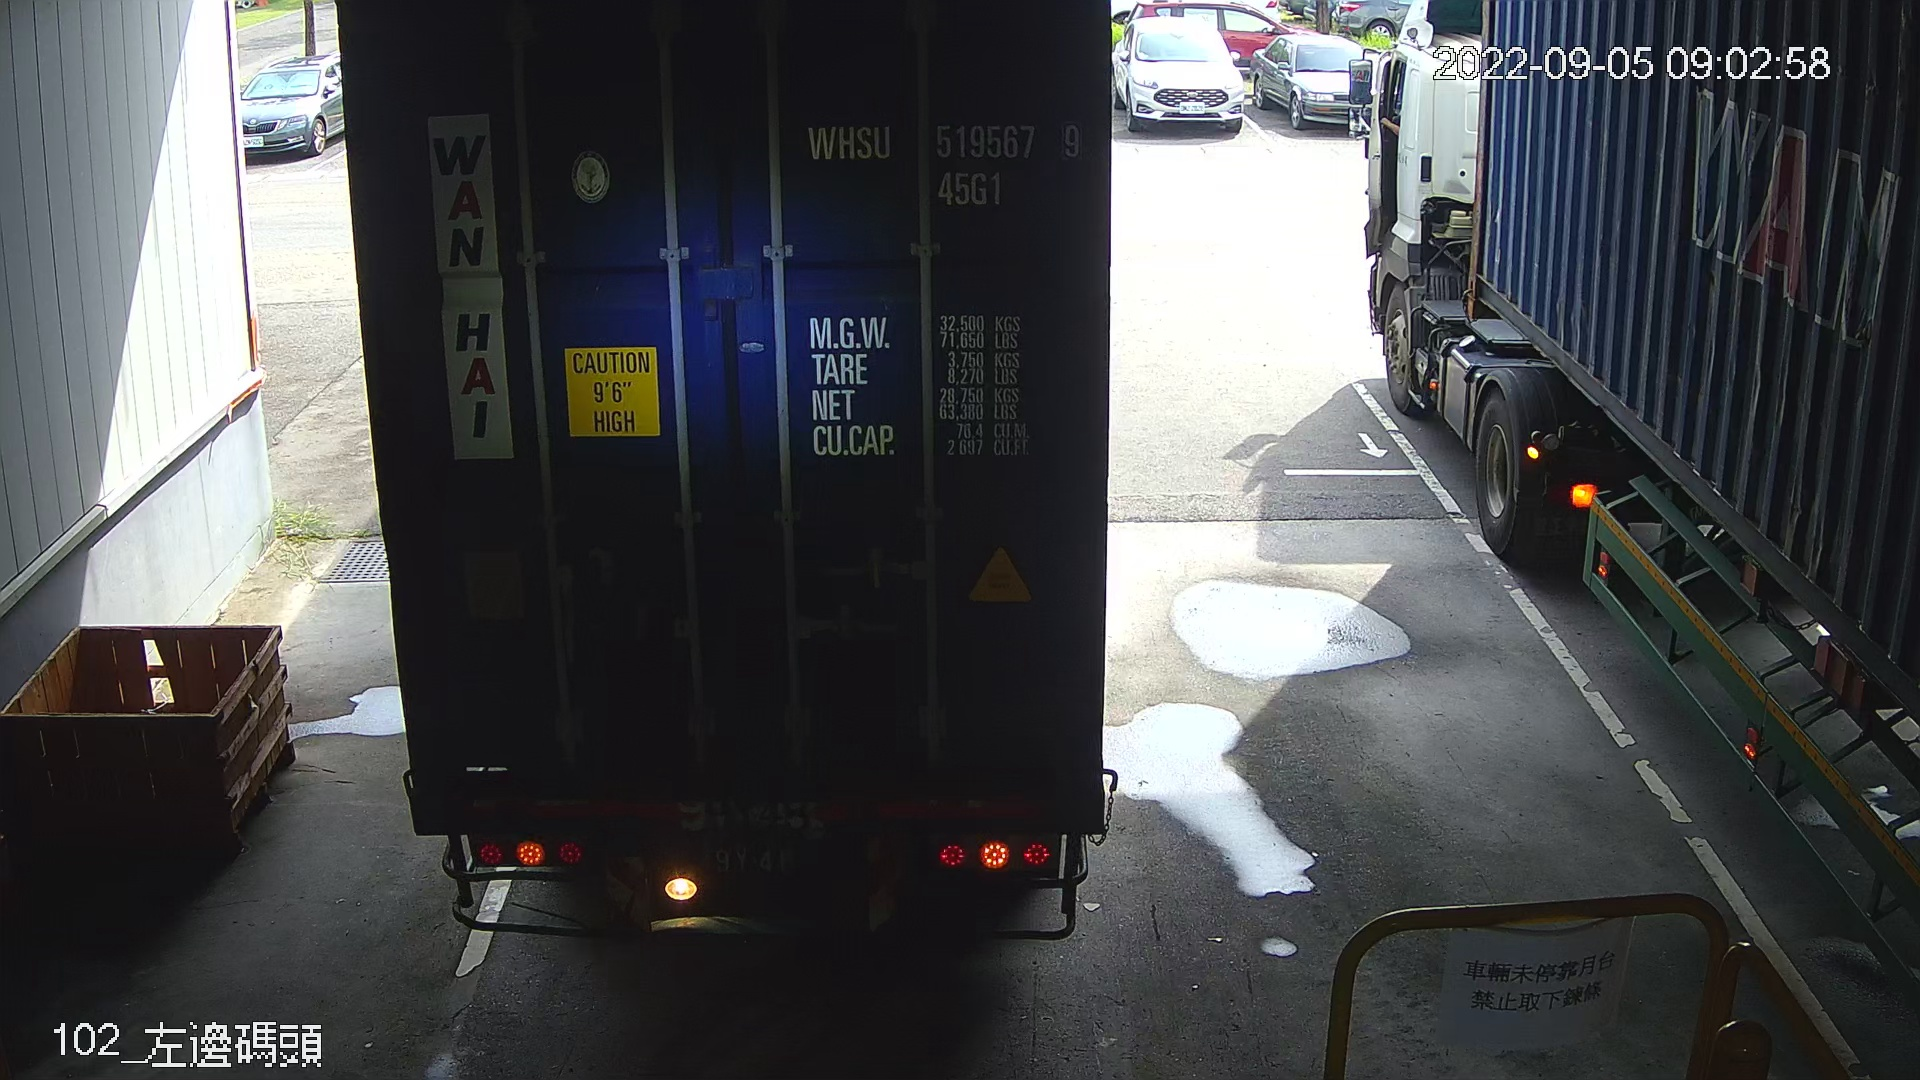container: (796, 108, 1089, 216)
